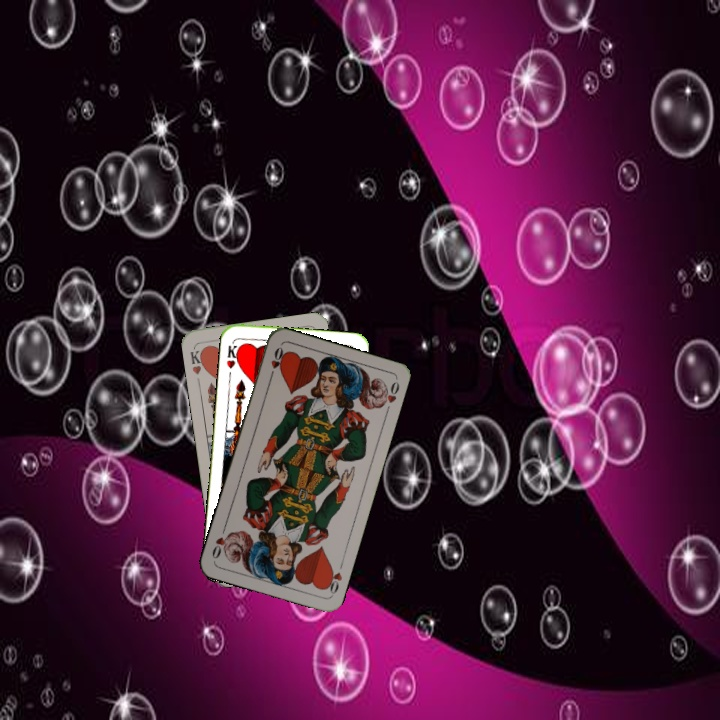HK: (187, 344, 208, 377), (222, 341, 243, 371)
HO: (321, 563, 345, 597), (266, 343, 286, 382)
